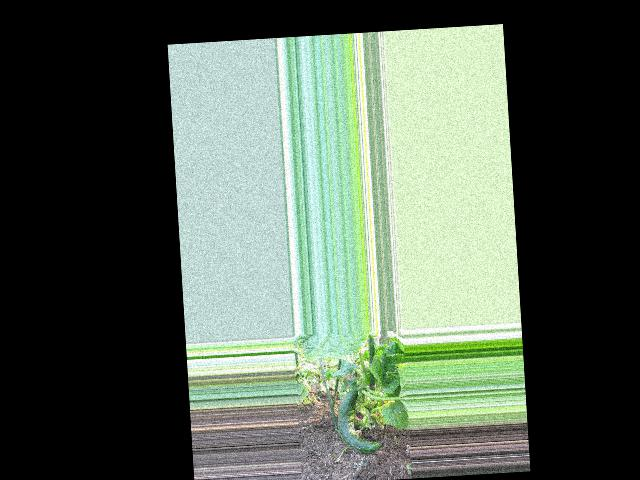cucumber: (335, 387, 380, 455)
